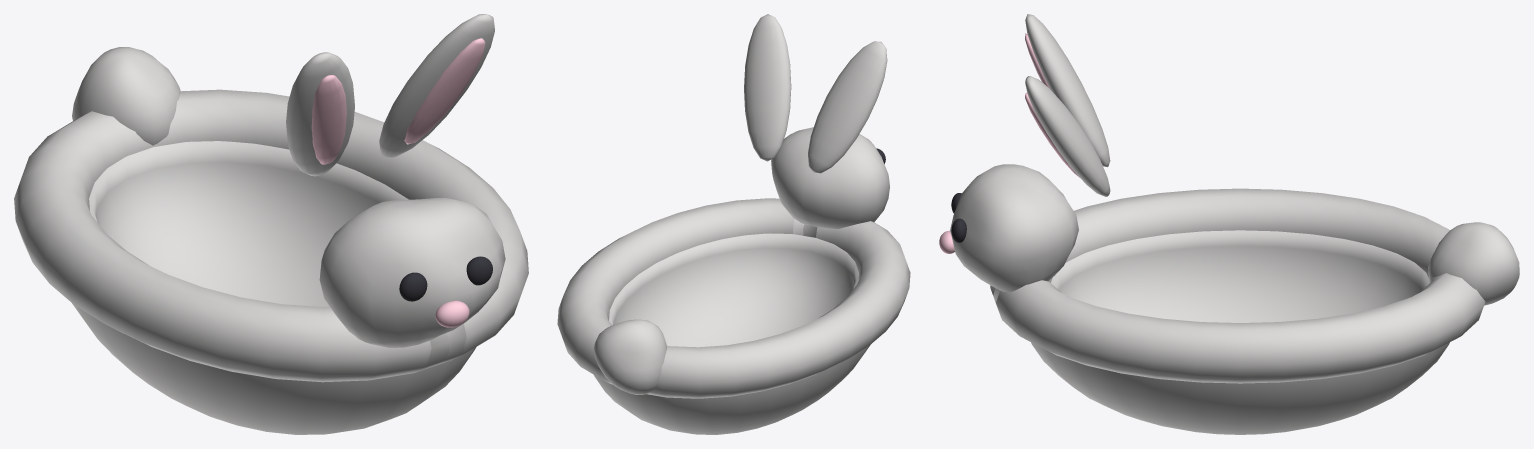
Rendered from Slipper_R.fbx.
3 views of the same model, side by side, from view 1: azimuth 30°, elevation 25°; view 2: azimuth 150°, elevation 25°; view 3: azimuth 270°, elevation 25° (orthographic). The views are drawn at different scales.
Visible parts, largest first — view 1: Slipper_R; view 2: Slipper_R; view 3: Slipper_R.
Part boxes in pixels (box(x1,y1,x2,y2)): Slipper_R: box(14, 14, 528, 434); Slipper_R: box(557, 14, 910, 434); Slipper_R: box(939, 14, 1519, 434).
Size of the model in its own units: 0.336 by 0.359 by 0.5146.
